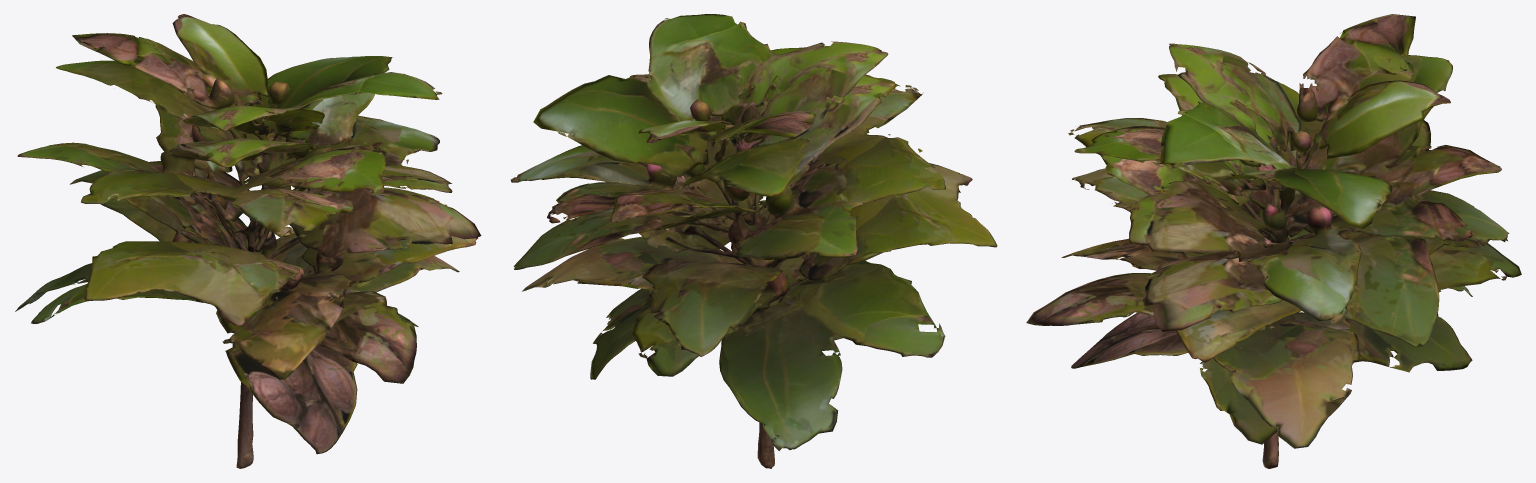
File: clove.glb
3 renders of one model, left to right at view 1: azimuth 30°, elevation 25°; view 2: azimuth 150°, elevation 25°; view 3: azimuth 270°, elevation 25°, orthographic.
Bounding box in the file's own units: 1.81 × 1.66 × 1.84.
Materials: 1 (1 with a texture image).
